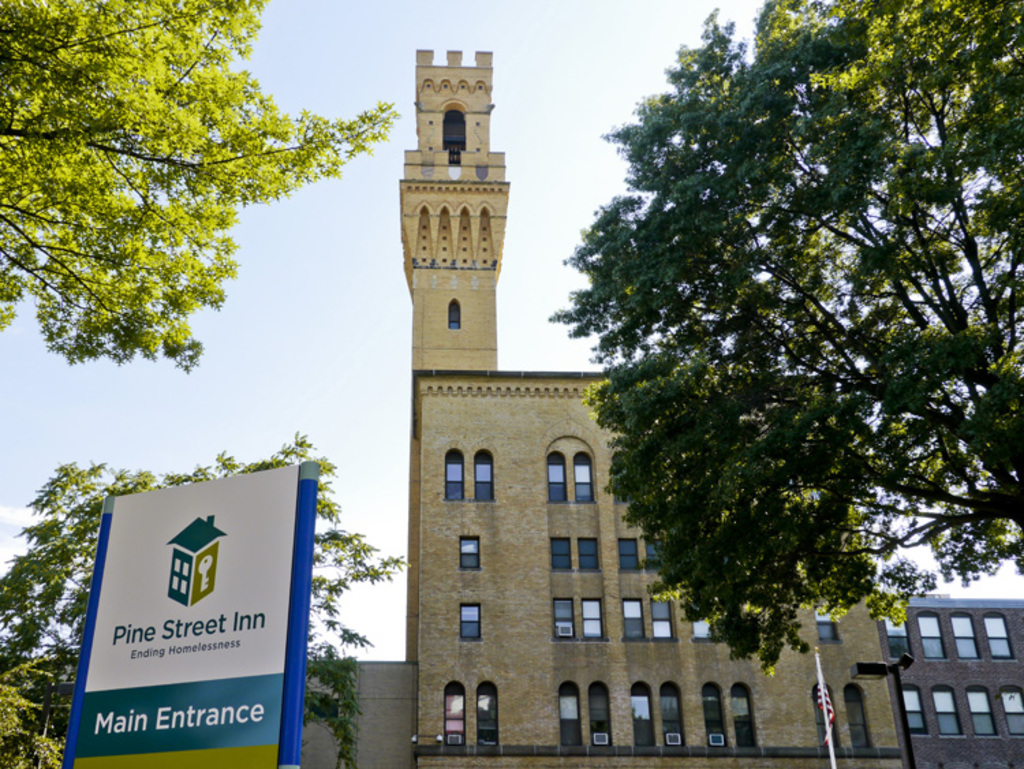Tree: (547, 0, 1024, 680), (0, 0, 400, 375), (0, 431, 412, 769)
